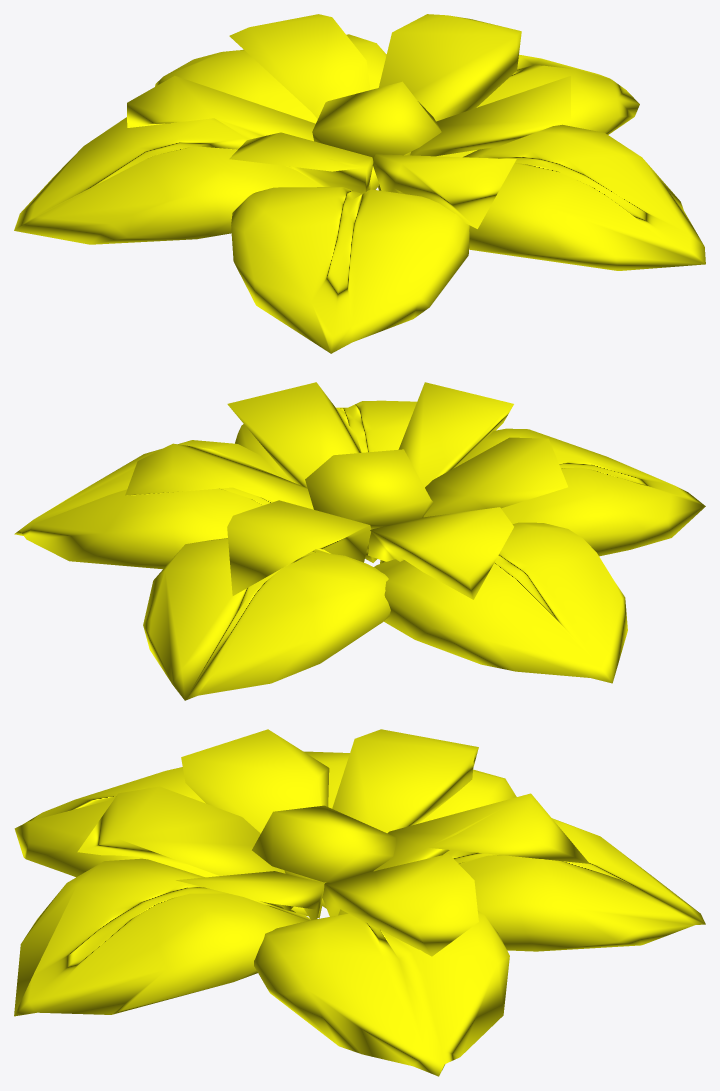
File: flower.glb
The picture shows the model from 3 angles, top to bottom: view 1: azimuth 30°, elevation 25°; view 2: azimuth 150°, elevation 25°; view 3: azimuth 270°, elevation 25°; orthographic projection. The views are drawn at different scales.
Parts seen in each view (by area): view 1: Plane.001, Plane, Sphere.001; view 2: Plane.001, Plane, Sphere.001; view 3: Plane.001, Plane, Sphere.001.
Part boxes in pixels (x1,y1,x2,y2): Plane.001: (14, 34, 705, 353); Plane: (127, 14, 570, 228); Sphere.001: (312, 81, 441, 166); Plane.001: (14, 400, 705, 700); Plane: (125, 382, 567, 599); Sphere.001: (305, 449, 433, 529); Plane.001: (14, 751, 705, 1076); Plane: (77, 729, 589, 956); Sphere.001: (252, 805, 395, 882).
Size of the model in its own units: 13.63 by 2.35 by 13.
1 material, 1 textured.
